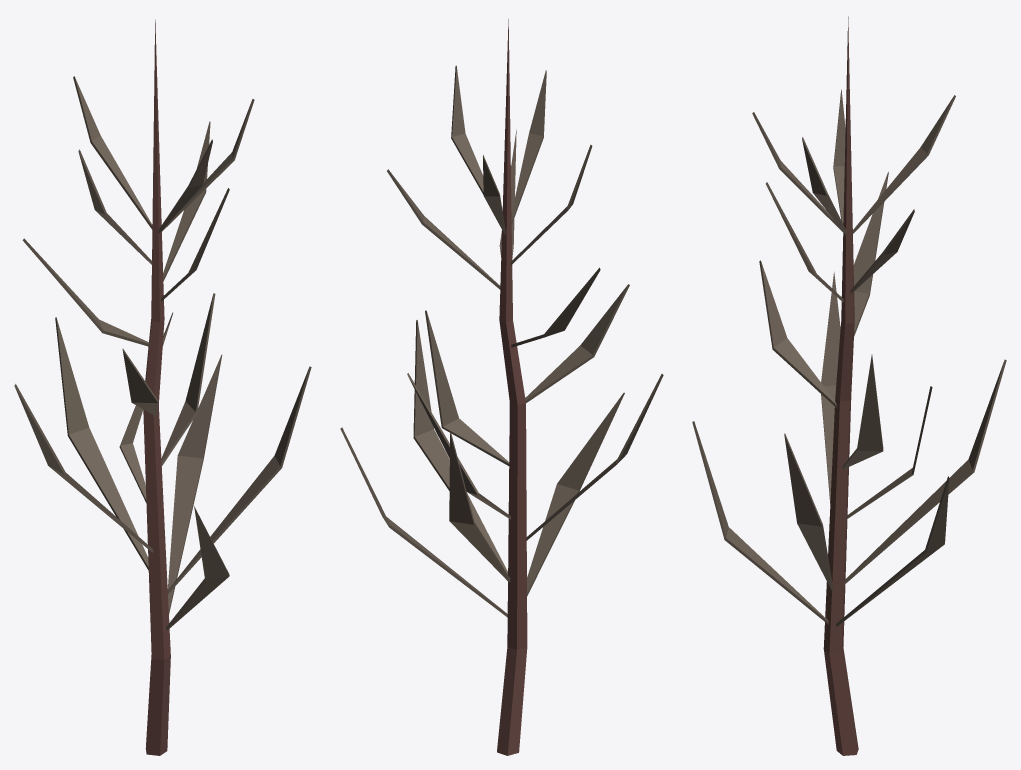
File: Blends_Plant_2.glb
3 views of the same model, side by side, from view 1: azimuth 30°, elevation 25°; view 2: azimuth 150°, elevation 25°; view 3: azimuth 270°, elevation 25° (orthographic).
Visible parts, largest first — view 1: Plant_2; view 2: Plant_2; view 3: Plant_2.
Part boxes in pixels (left/top/right/bottom): Plant_2: left=14, top=19, right=311, bottom=755; Plant_2: left=340, top=19, right=663, bottom=755; Plant_2: left=692, top=16, right=1006, bottom=755.
Bounding box in the file's own units: 0.6859 × 1.77 × 0.6859.
